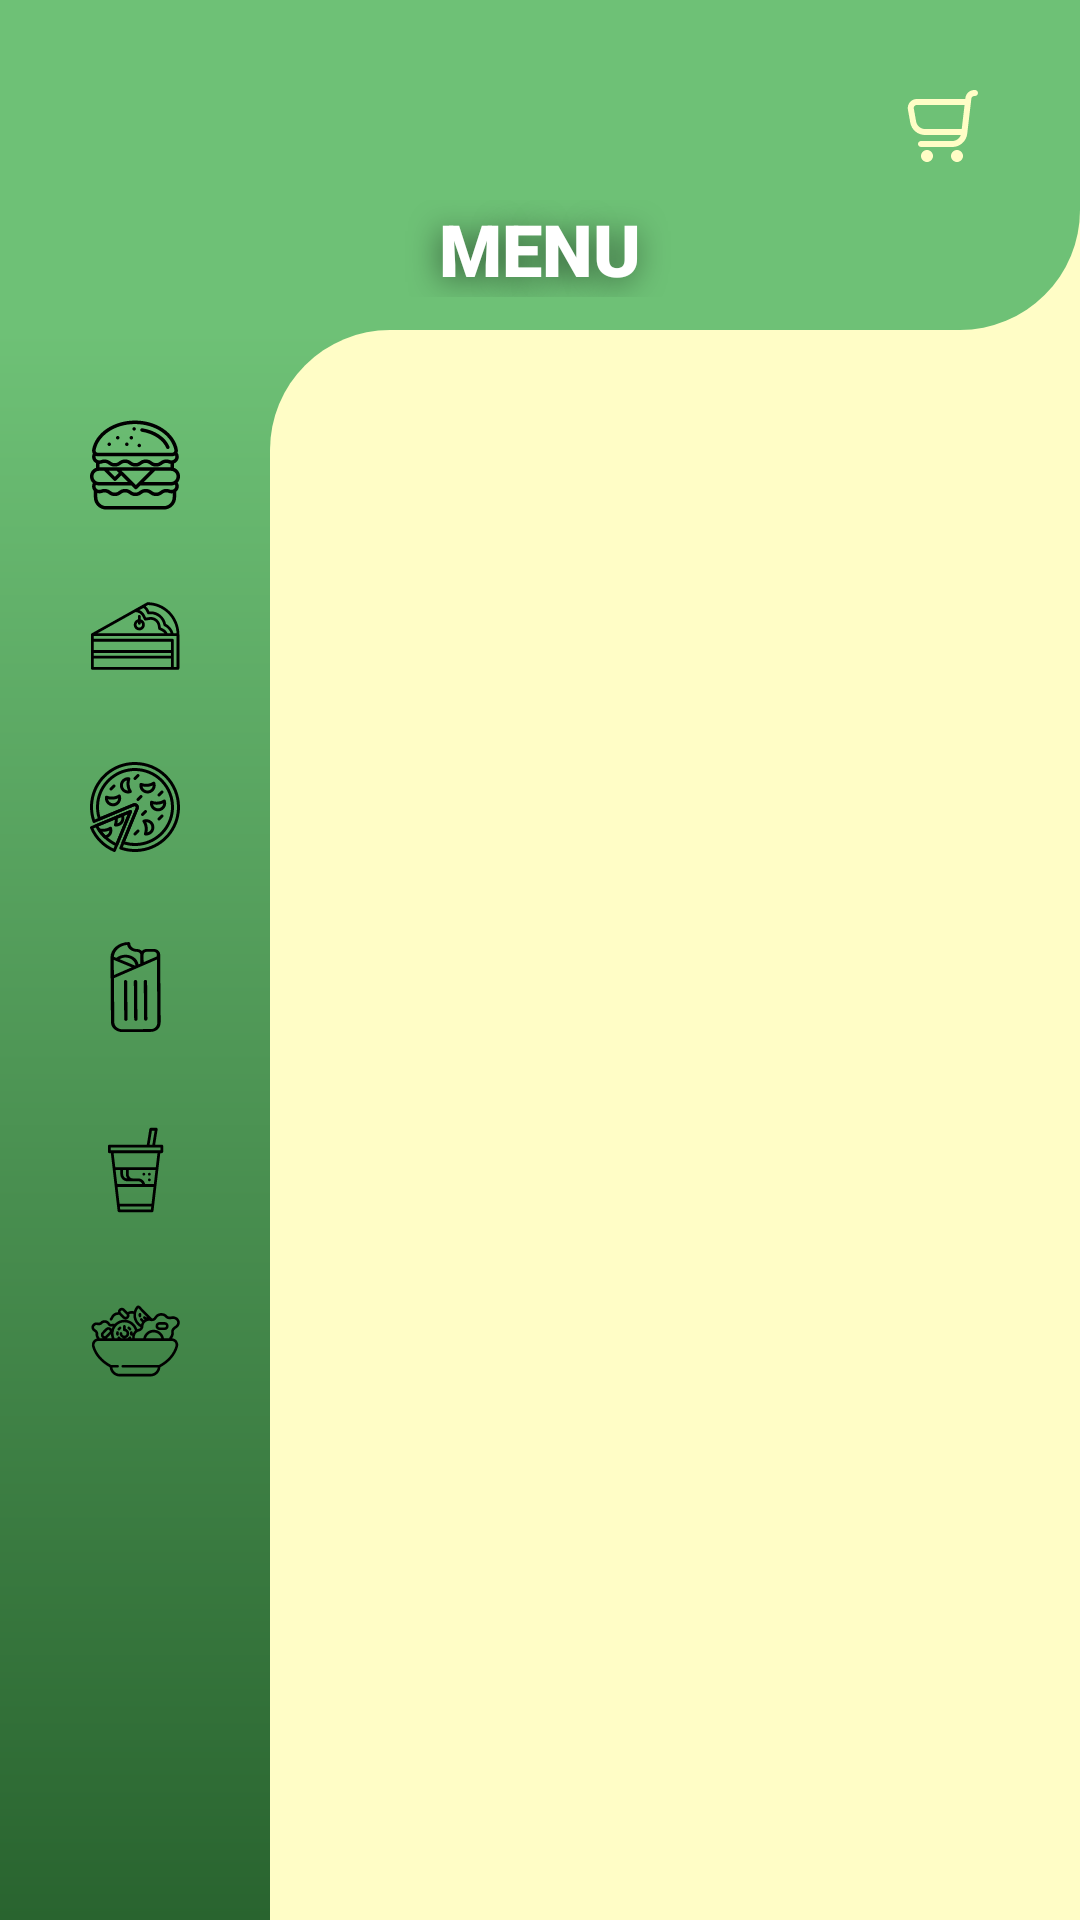

Named icons in this screenshot (1080 × 1920) and their bounding boxes, box(x1, y1, x2, y2):
shop: box(907, 90, 978, 162)
soda: box(108, 1127, 164, 1213)
